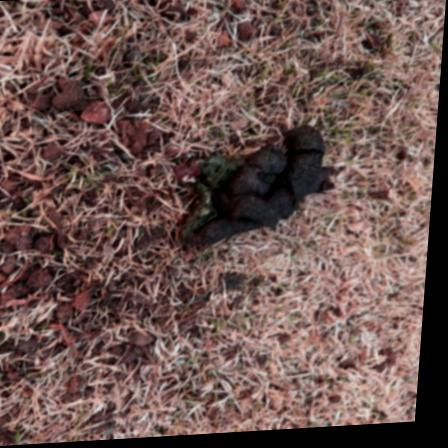dog-poop: (184, 125, 345, 258)
